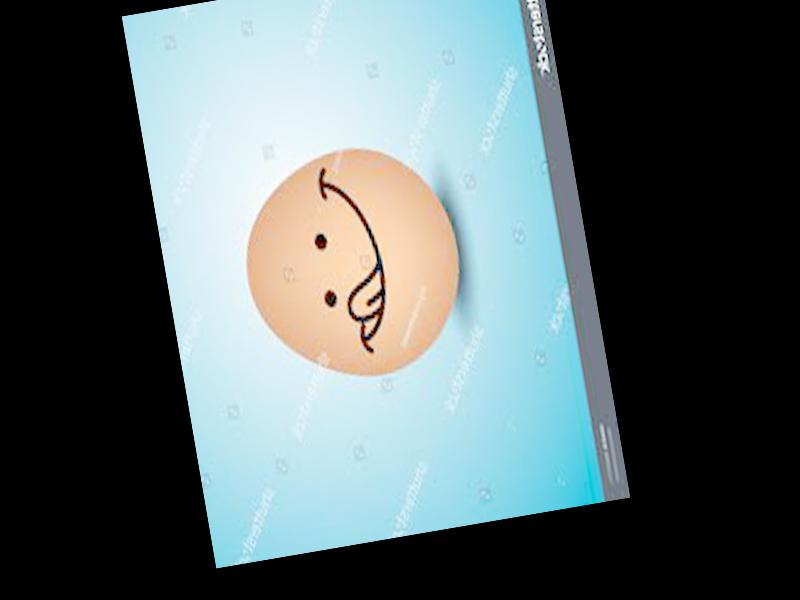Eggs: (228, 132, 476, 395)
